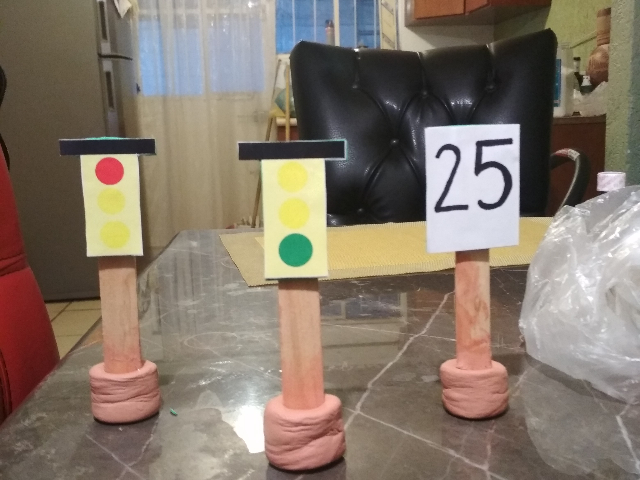Green: (234, 137, 349, 283)
Limit 25: (422, 121, 522, 255)
Red: (59, 136, 157, 262)
